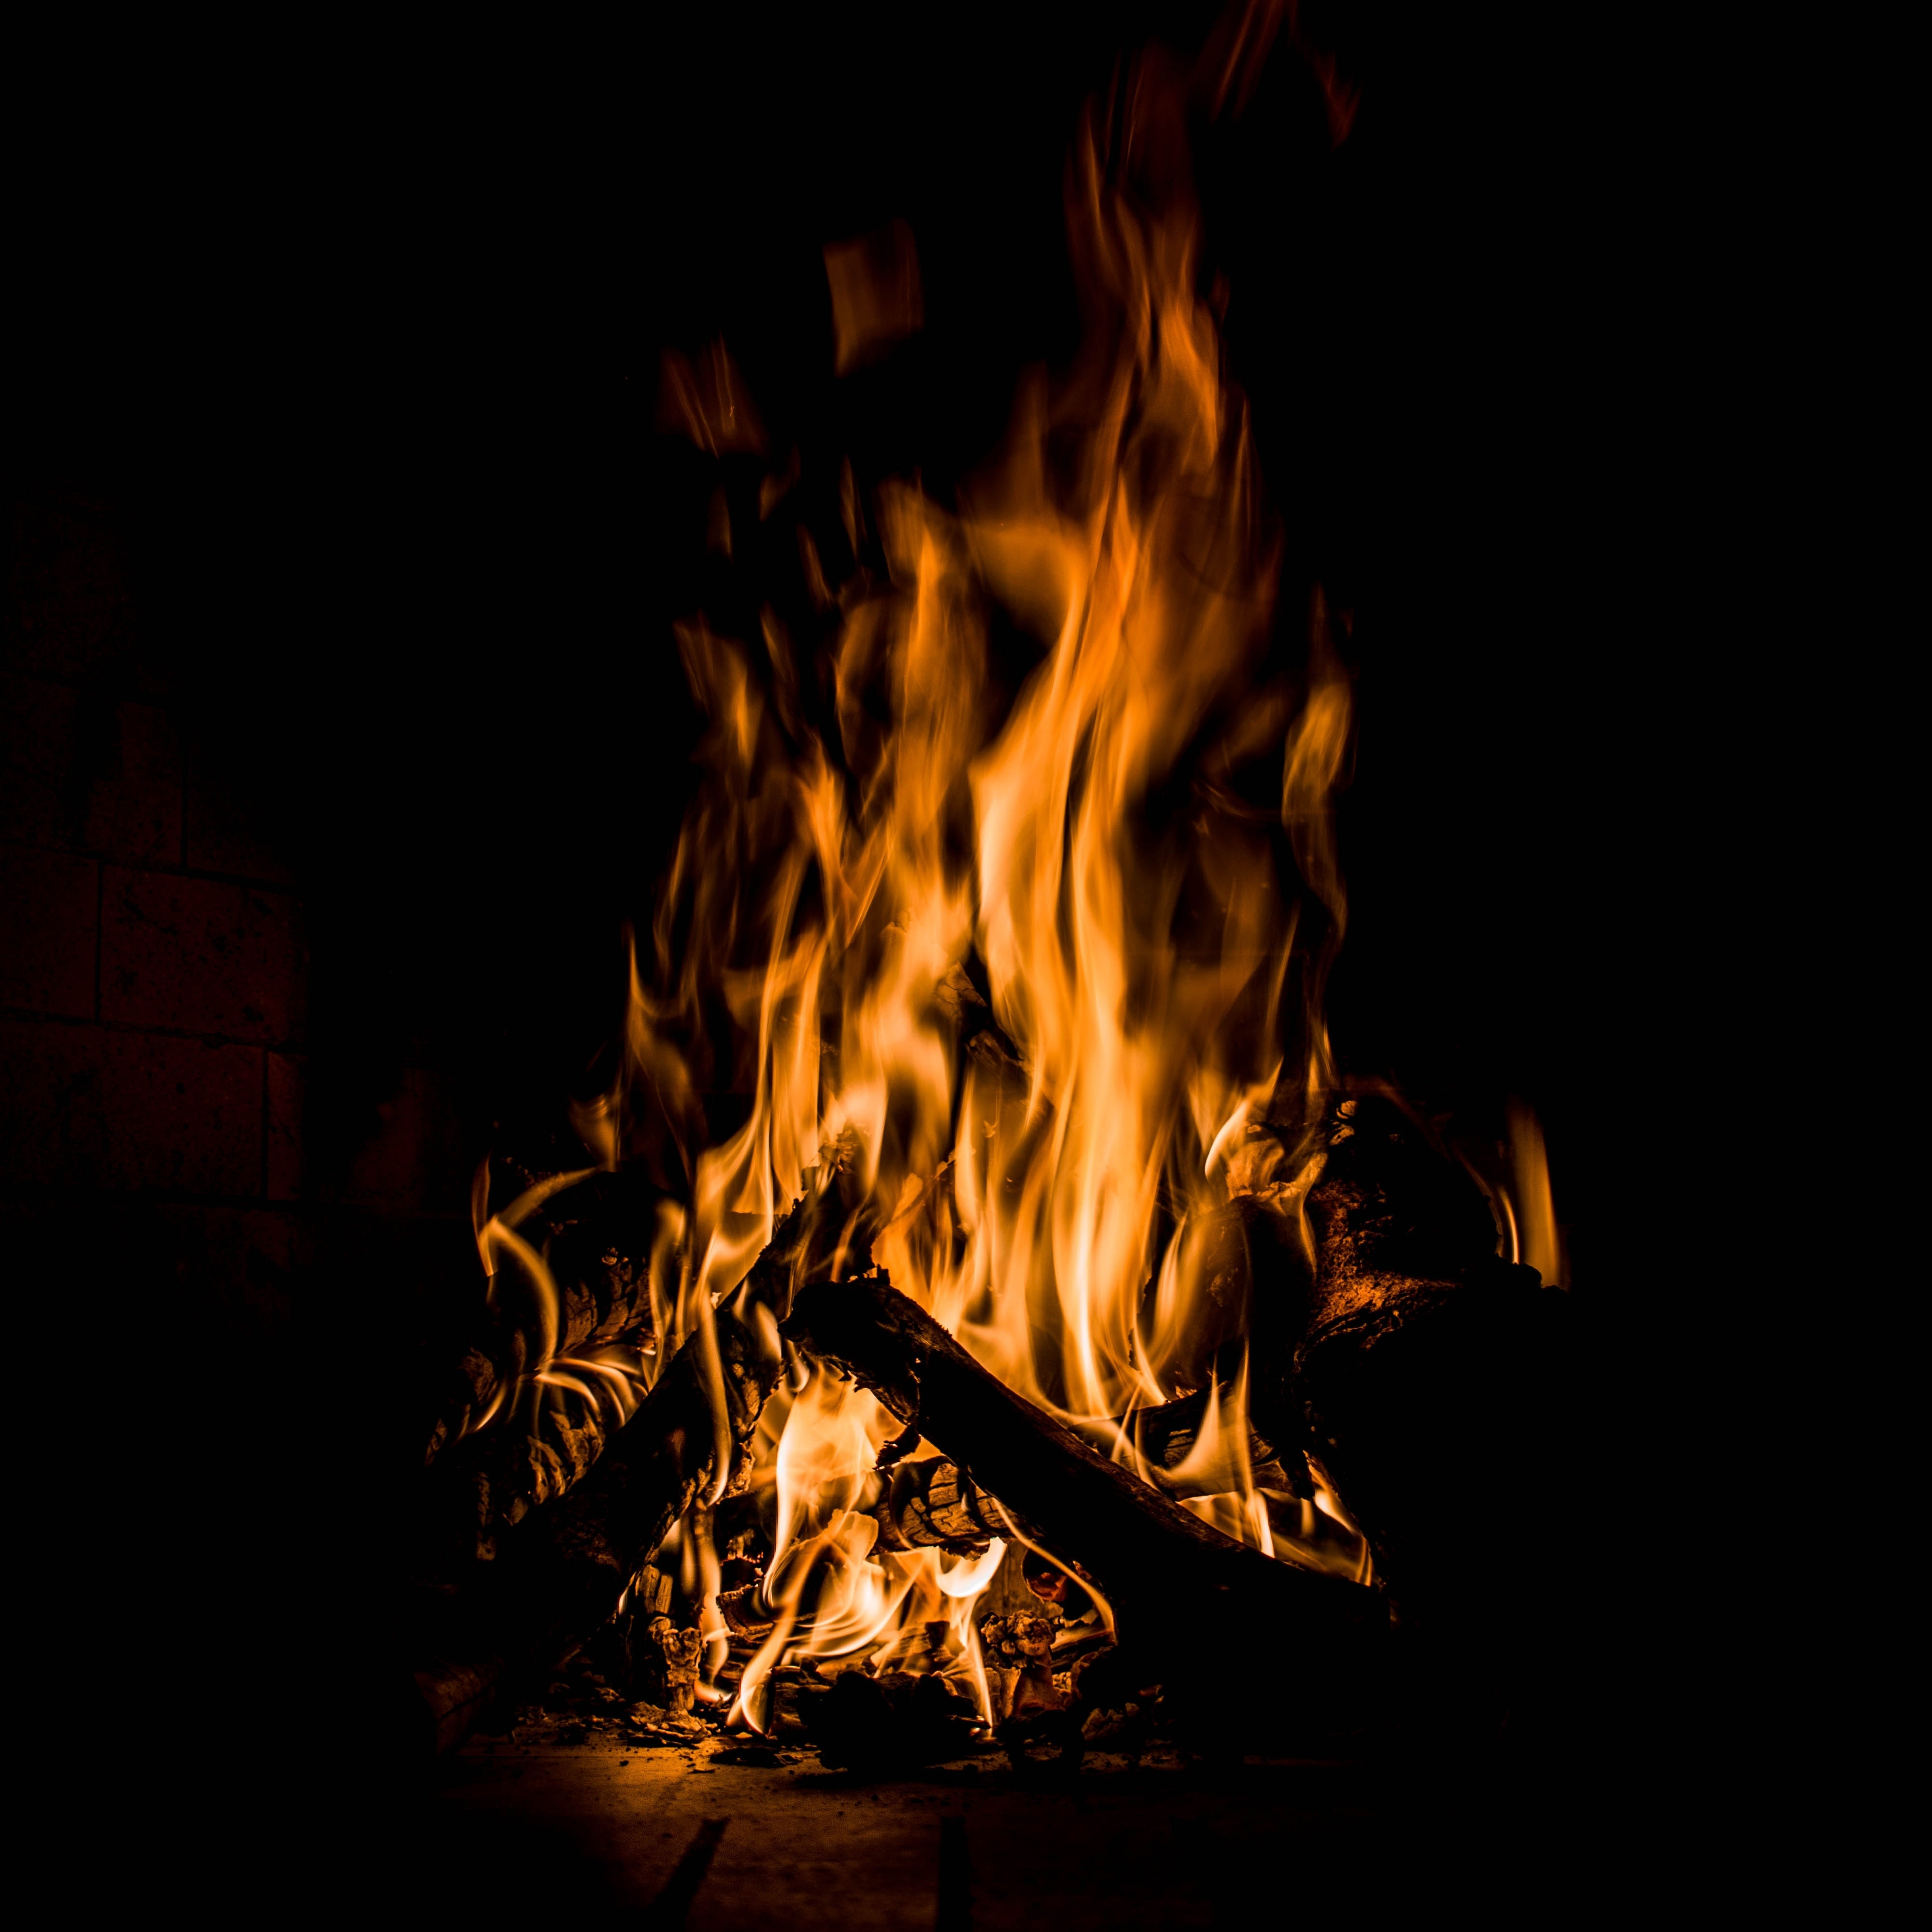fire: (410, 471, 1470, 1720)
